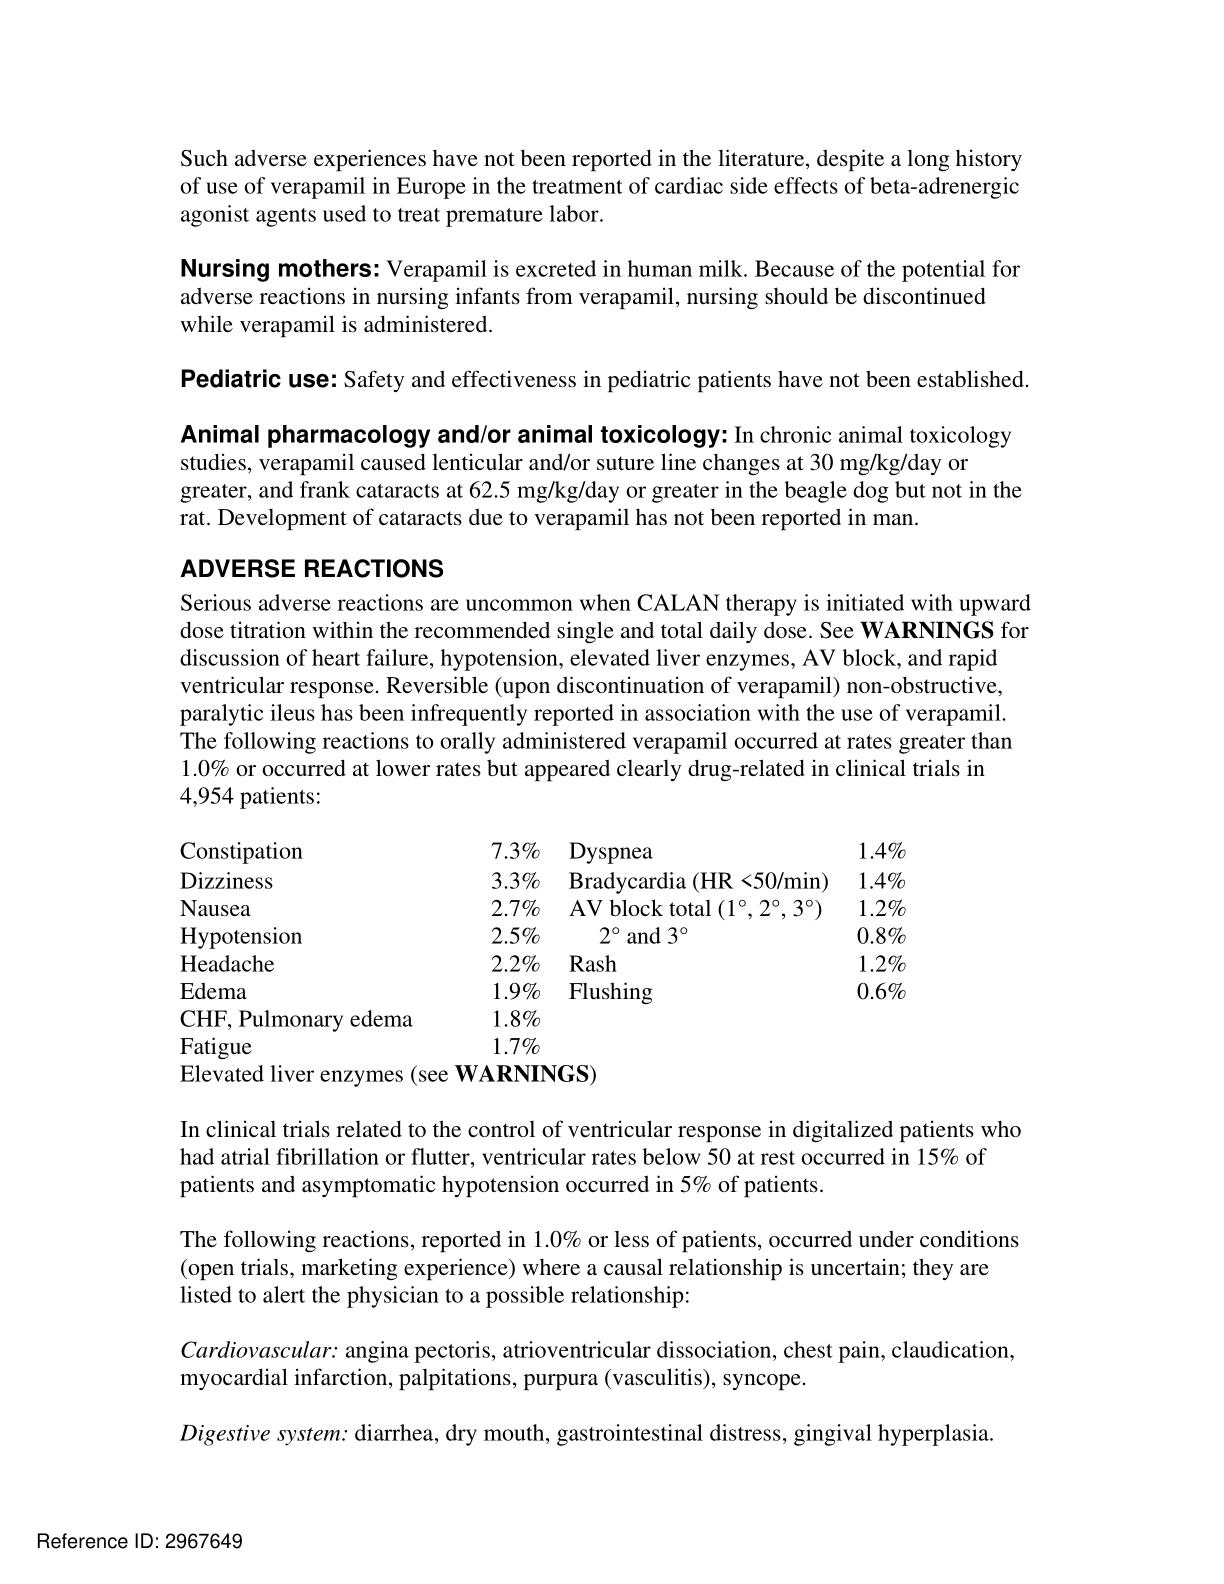nolines: (177, 840, 906, 1062)
